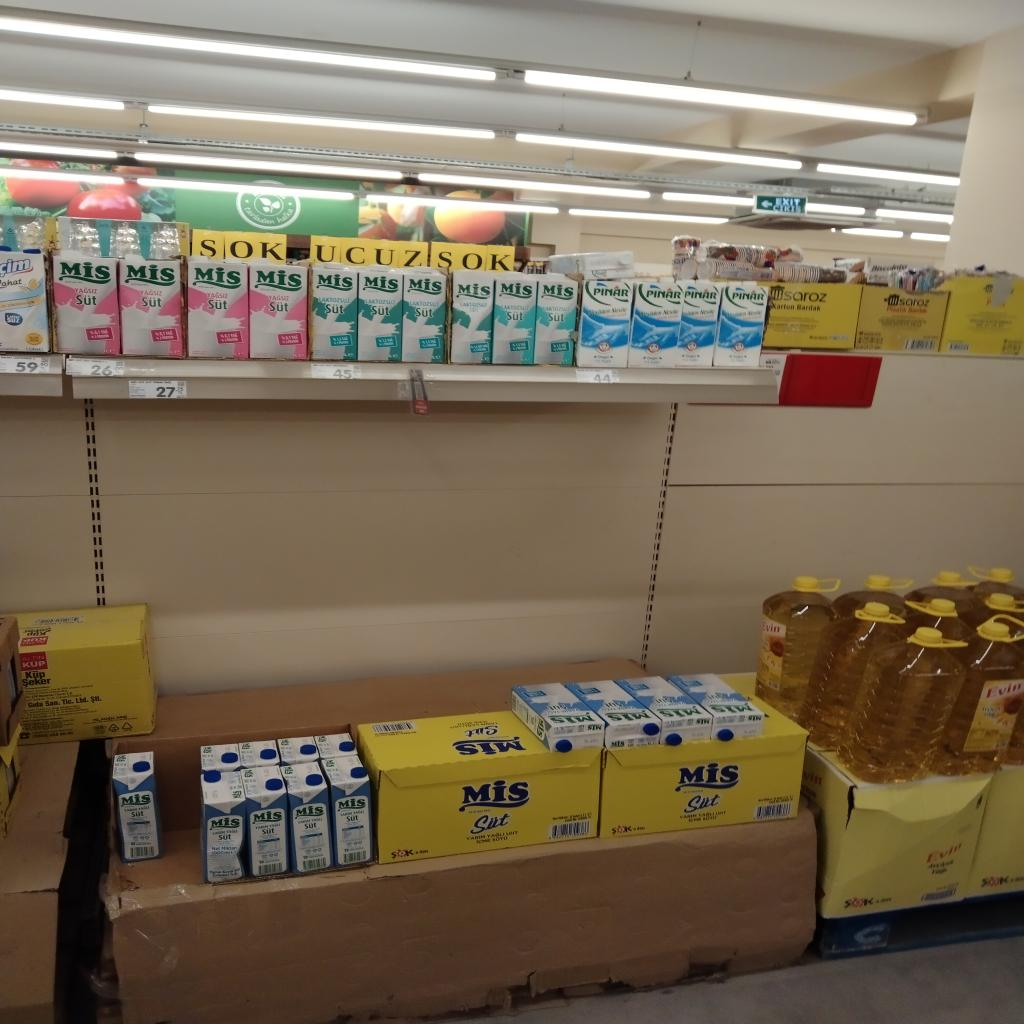price_tag: (67, 358, 124, 377), (129, 380, 186, 398), (0, 355, 50, 374), (311, 364, 361, 380), (576, 368, 619, 383)
product: (53, 252, 121, 356), (118, 256, 185, 357), (568, 680, 665, 748), (615, 677, 711, 745), (512, 683, 606, 752), (187, 257, 249, 359), (669, 675, 764, 740), (248, 260, 308, 361), (321, 756, 374, 867), (112, 752, 162, 863), (283, 766, 334, 874), (241, 766, 289, 878), (0, 250, 50, 352), (576, 280, 633, 368), (201, 772, 246, 882), (628, 278, 682, 368), (310, 263, 358, 361), (713, 282, 768, 367), (450, 270, 498, 364), (357, 268, 404, 362), (402, 268, 447, 363), (492, 273, 538, 365), (534, 274, 579, 366), (675, 281, 723, 366)
